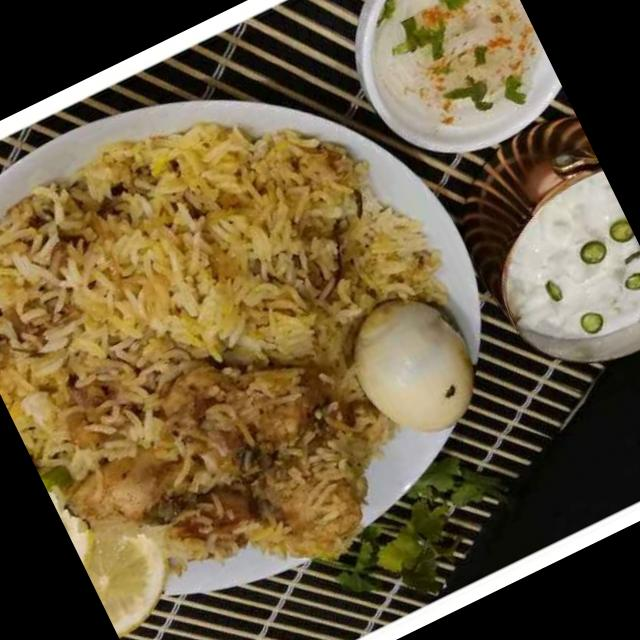Biryani: (0, 30, 538, 640)
